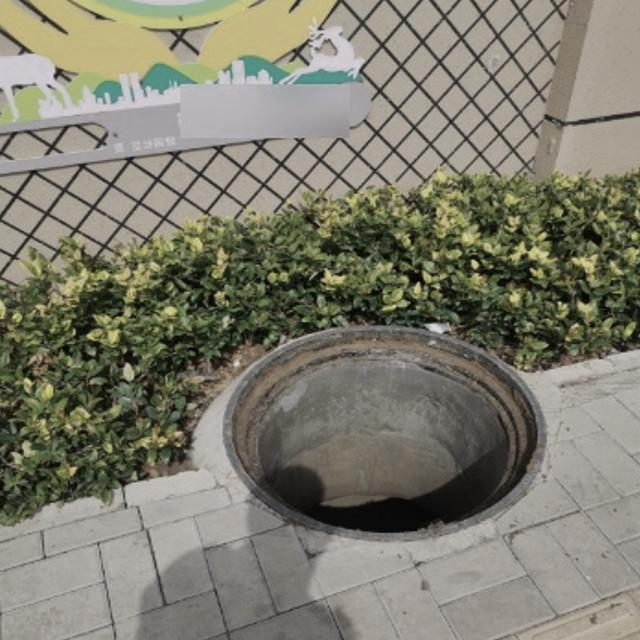lose: (223, 325, 547, 543)
